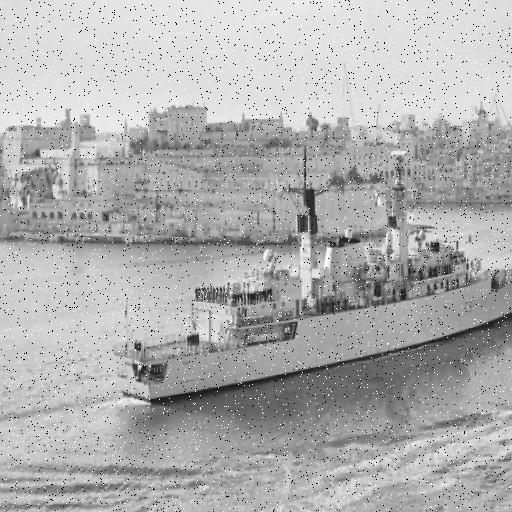Fragata: (113, 144, 512, 410)
